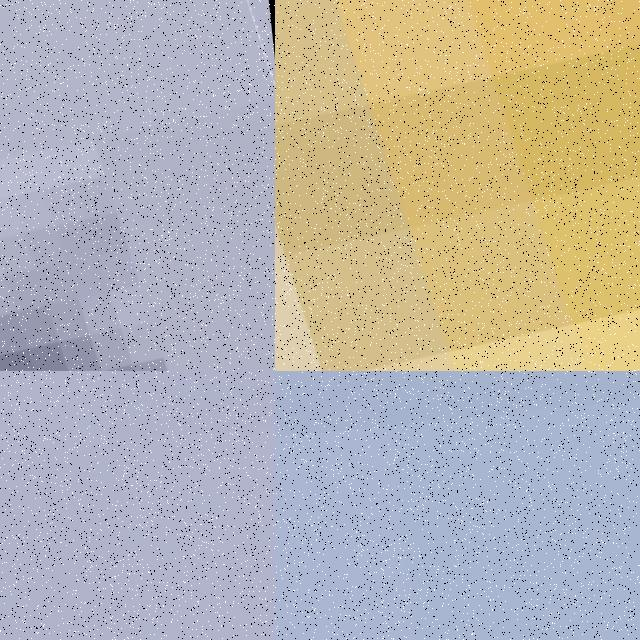drone: (275, 0, 640, 371), (0, 0, 275, 371)
